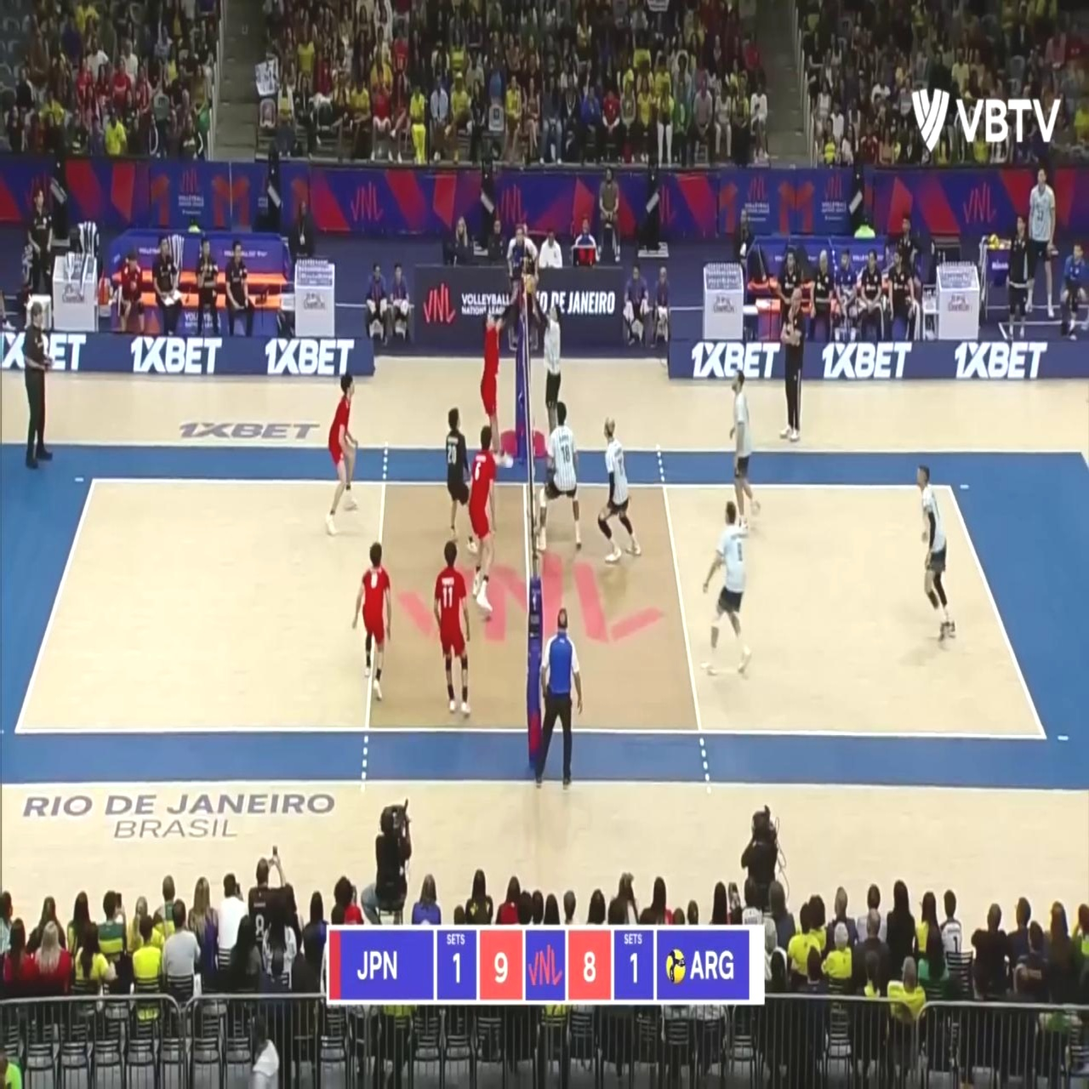ball: (523, 273, 534, 294)
